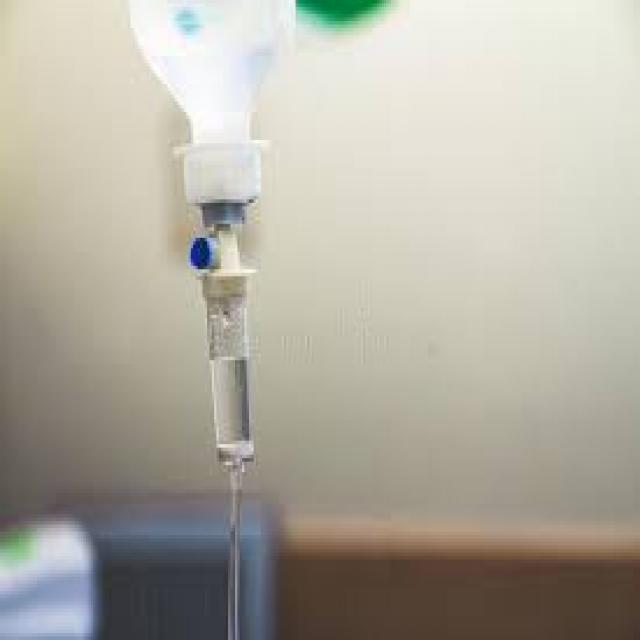iv_fluids: (167, 111, 322, 582)
